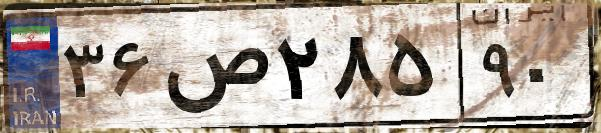0: (525, 38, 570, 115)
2: (270, 28, 330, 110)
3: (57, 26, 110, 100)
5: (385, 28, 445, 110)
6: (110, 28, 158, 98)
8: (330, 28, 385, 110)
9: (475, 38, 525, 113)
ص: (158, 20, 270, 120)
